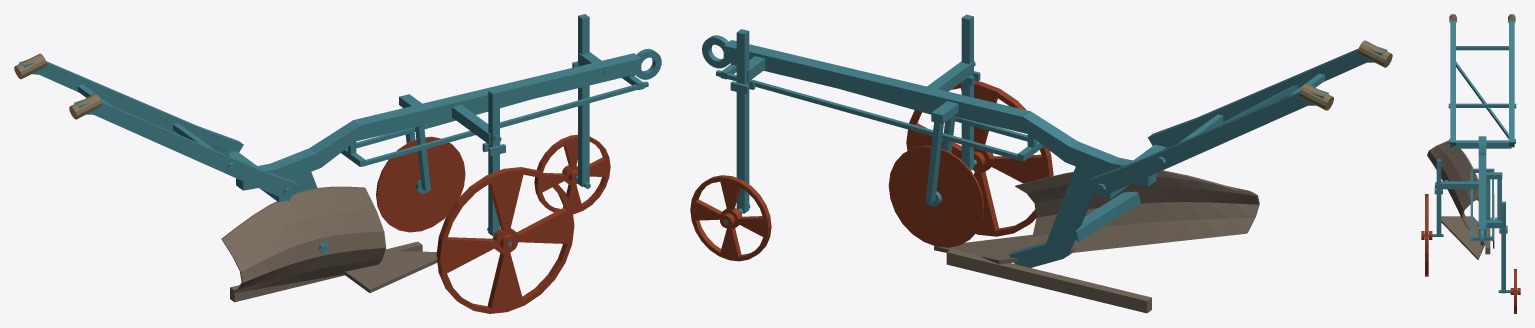
The model's file is NEW455_walking_plough_LOD2.glb.
3 renders of one model, left to right at view 1: azimuth 30°, elevation 25°; view 2: azimuth 150°, elevation 25°; view 3: azimuth 270°, elevation 25°, orthographic. The views are drawn at different scales.
Visible parts, largest first — view 1: Single curved mouldboard 720mm, Large four spoke wheel, Main curved draw beam, Circular coulter blade, Near curved handle, Far curved handle, Small four spoke wheel, Pointed share 494mm, Lower draught rod near, Small vertical wheel standard, Large vertical wheel standard, Landside sole (+6 smaller); view 2: Single curved mouldboard 720mm, Main curved draw beam, Circular coulter blade, Large four spoke wheel, Far curved handle, Landside sole, Small four spoke wheel, Near curved handle, Swept plough standard, Small vertical wheel standard, Lower draught rod far, Pointed share 494mm (+9 smaller); view 3: Single curved mouldboard 720mm, Pointed share 494mm, Main curved draw beam, Far curved handle, Near curved handle, Small vertical wheel standard, Large vertical wheel standard, Large beam support outrigger, Diagonal handle brace, Large four spoke wheel, Handle cross brace 0, Handle cross brace 1 (+11 smaller).
Boxes of the visible parts, x1,y1,x2,y2 form: Single curved mouldboard 720mm: (221,186,386,293); Large four spoke wheel: (436,167,574,313); Main curved draw beam: (236,53,641,190); Circular coulter blade: (376,136,465,232); Near curved handle: (74,100,298,200); Far curved handle: (19,60,243,154); Small four spoke wheel: (534,134,610,214); Pointed share 494mm: (344,250,437,292); Lower draught rod near: (363,81,648,166); Small vertical wheel standard: (578,14,589,186); Large vertical wheel standard: (488,89,499,235); Landside sole: (230,241,422,302); Single curved mouldboard 720mm: (1015,170,1259,252); Main curved draw beam: (723,40,1156,186); Circular coulter blade: (888,145,984,247); Large four spoke wheel: (906,81,1053,236); Far curved handle: (1089,90,1328,197); Landside sole: (946,248,1151,313); Small four spoke wheel: (690,175,771,261); Near curved handle: (1147,47,1387,148); Swept plough standard: (1009,166,1097,267); Small vertical wheel standard: (736,29,749,213); Lower draught rod far: (716,70,1020,160); Pointed share 494mm: (934,234,1075,264); Single curved mouldboard 720mm: (1427,140,1478,229); Pointed share 494mm: (1441,216,1489,259); Main curved draw beam: (1478,136,1486,236); Far curved handle: (1509,14,1514,147); Near curved handle: (1450,14,1455,147); Small vertical wheel standard: (1501,201,1505,293); Large vertical wheel standard: (1436,159,1441,236); Large beam support outrigger: (1439,181,1478,189); Diagonal handle brace: (1456,61,1508,138); Large four spoke wheel: (1425,194,1428,276); Handle cross brace 0: (1456,103,1508,107); Handle cross brace 1: (1456,46,1508,50).
Size of the model in its own units: 2.52 by 1.14 by 0.6595.
